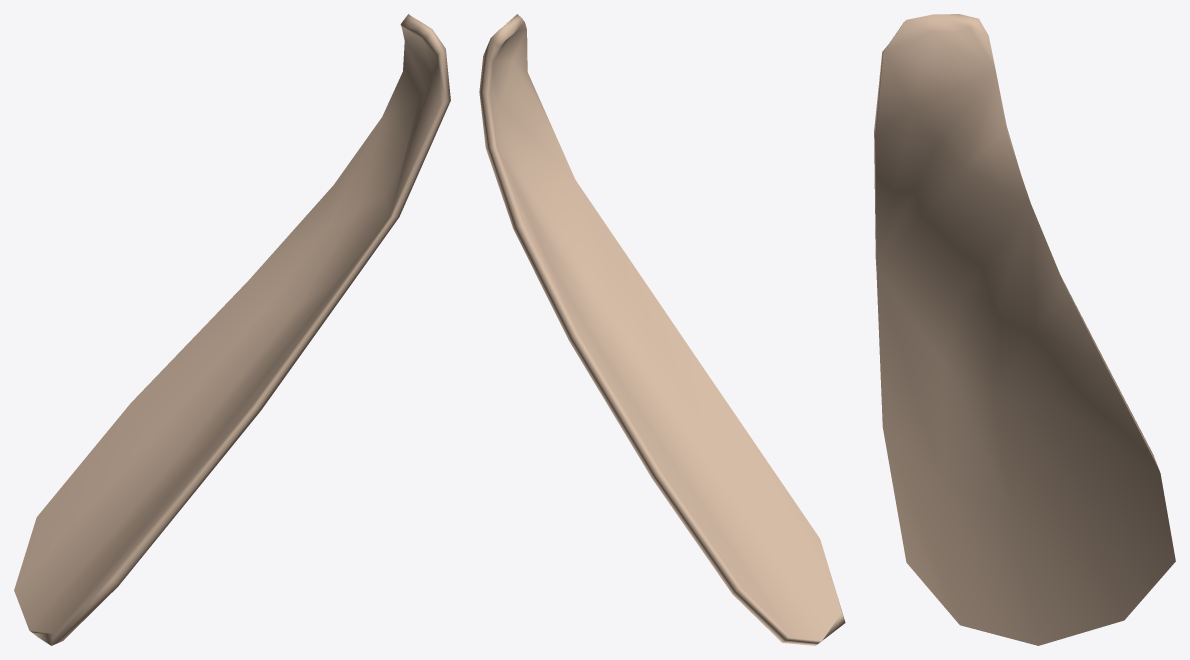
3 views of the same model, side by side, from view 1: azimuth 30°, elevation 25°; view 2: azimuth 150°, elevation 25°; view 3: azimuth 270°, elevation 25° (orthographic). The views are drawn at different scales.
Visible parts, largest first — view 1: 右侧髌内侧支持带; view 2: 右侧髌内侧支持带; view 3: 右侧髌内侧支持带.
Boxes of the visible parts, <box> form: 右侧髌内侧支持带: <box>14,14,450,645</box>; 右侧髌内侧支持带: <box>479,14,845,645</box>; 右侧髌内侧支持带: <box>874,14,1175,645</box>.
Bounding box in the file's own units: 0.0483 × 0.0675 × 0.0201.
